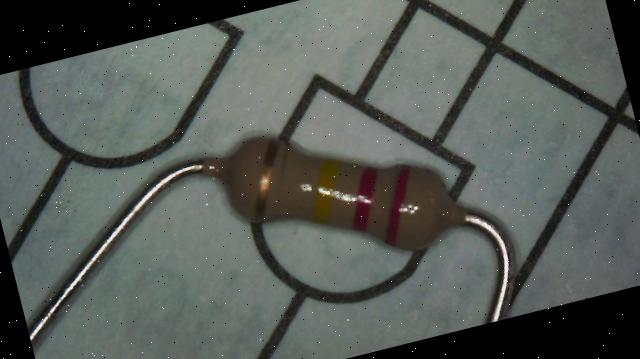gold: (239, 142, 291, 218)
red: (369, 165, 426, 246), (340, 167, 390, 230)
resistor: (199, 110, 487, 298)
yellow: (300, 154, 354, 228)
